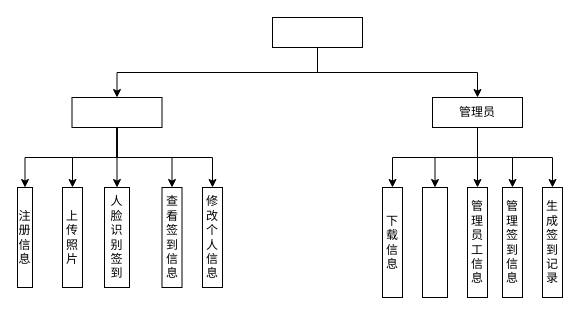
This 580x315 diagram has some shape labels left out. The shapes that lost their labels are listed below. From the top down, each one's centre as x and y in pixels, then its label:
At point (317, 32): "系统功能".
At point (116, 112): "员工".
At point (435, 242): "管理管理员信息".
